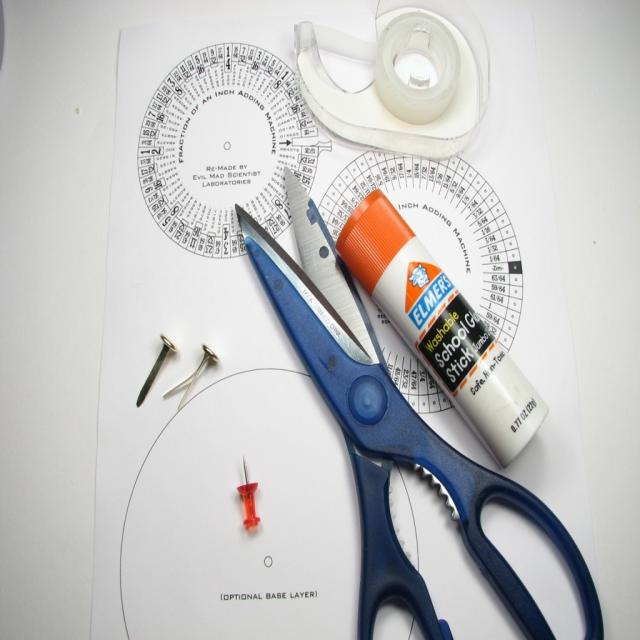scissors: (234, 196, 604, 638)
